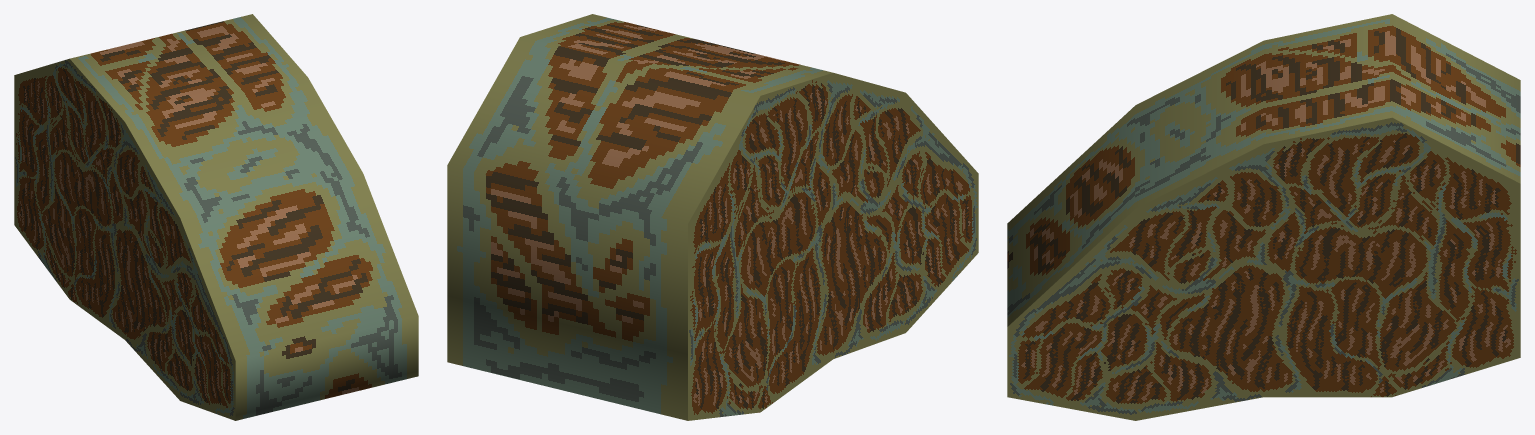
Rendered from meat_02.glb.
3 views of the same model, side by side, from view 1: azimuth 30°, elevation 25°; view 2: azimuth 150°, elevation 25°; view 3: azimuth 270°, elevation 25° (orthographic). The views are drawn at different scales.
Parts seen in each view (by area): view 1: Cube; view 2: Cube; view 3: Cube.
Part boxes in pixels (x1,y1,x2,y2): Cube: (14,14,418,420); Cube: (447,14,978,420); Cube: (1007,14,1520,420).
Size of the model in its own units: 0.4074 by 0.5557 by 0.8522.
Materials: 1 (1 with a texture image).
